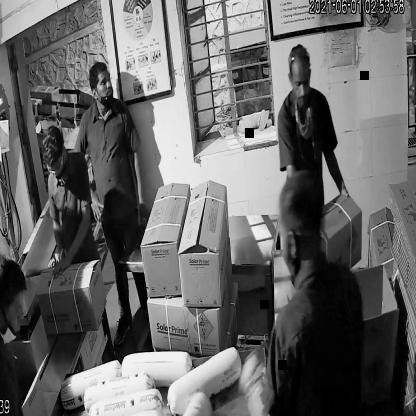goggles: (39, 146, 72, 184)
no_goggles: (288, 68, 314, 96)
